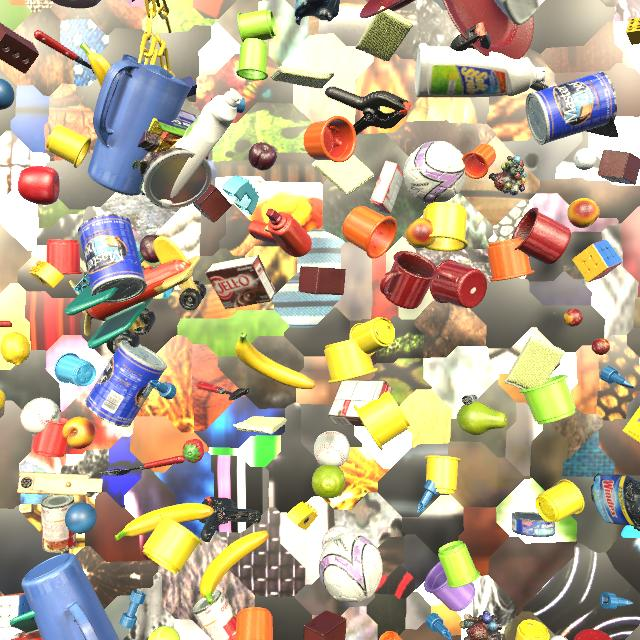ycb_002_master_chef_can: (85, 340, 167, 427), (526, 72, 617, 145), (78, 214, 147, 303)
ycb_004_sugar_box: (622, 406, 640, 443)
ycb_005_tomato_soup_can: (192, 590, 237, 640), (40, 495, 77, 553)
ycb_007_tuna_fish_can: (511, 512, 555, 537)
ycb_008_pudding_box: (205, 255, 276, 309), (328, 380, 393, 426)
ycb_009_gelatin_box: (370, 161, 404, 214)
ycb_011_banana: (199, 531, 269, 605), (235, 332, 315, 389), (115, 503, 214, 541), (80, 42, 111, 86)
ycb_012_strawberry: (182, 439, 204, 463)
ycb_013_apple: (18, 166, 60, 205)
ycb_014_lemon: (0, 332, 30, 366), (0, 390, 5, 411)
ycb_015_peach: (63, 417, 96, 449), (568, 198, 600, 228), (405, 218, 436, 248)
ycb_016_pear: (457, 401, 508, 435), (312, 465, 345, 499)
ycb_018_plum: (248, 142, 277, 171), (140, 235, 160, 263)
